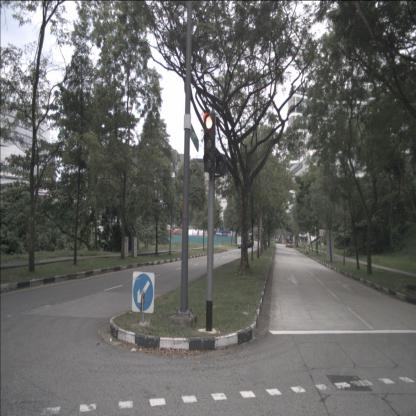vehicle-bus-rigid: (286, 233, 292, 248)
vehicle-truck: (237, 230, 250, 249), (244, 233, 254, 247)
